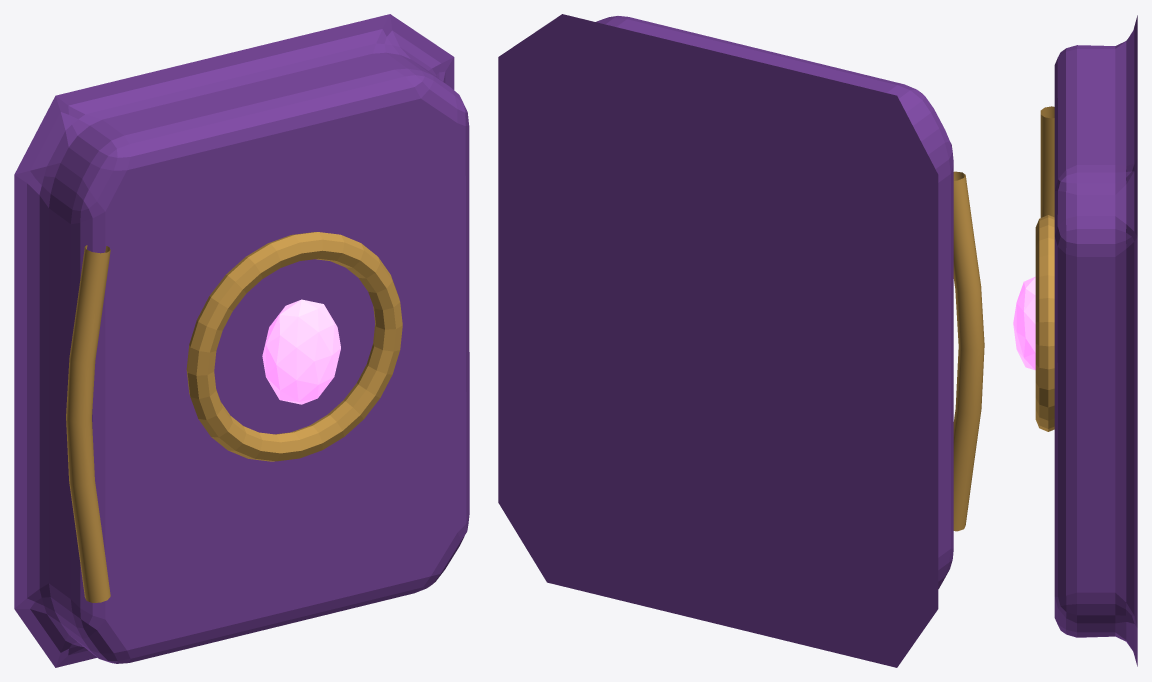
Rendered from offhand_arcane_grimoire.glb.
The picture shows the model from 3 angles, left to right: view 1: azimuth 30°, elevation 25°; view 2: azimuth 150°, elevation 25°; view 3: azimuth 270°, elevation 25°; orthographic projection. The views are drawn at different scales.
Visible parts, largest first — view 1: BookCover, ArcaneSeal, SpineBands, SealGem; view 2: BookCover, SpineBands; view 3: BookCover, ArcaneSeal, SealGem, SpineBands.
Part boxes in pixels (x1,y1,x2,y2): BookCover: (14, 14, 469, 667); ArcaneSeal: (186, 232, 402, 461); SpineBands: (66, 245, 110, 602); SealGem: (262, 299, 340, 404); BookCover: (498, 14, 953, 667); SpineBands: (953, 171, 984, 531); BookCover: (1054, 15, 1137, 666); ArcaneSeal: (1035, 215, 1054, 431); SealGem: (1013, 276, 1035, 370); SpineBands: (1040, 106, 1054, 217).
Bounding box in the file's own units: 0.7 × 0.87 × 0.195.
